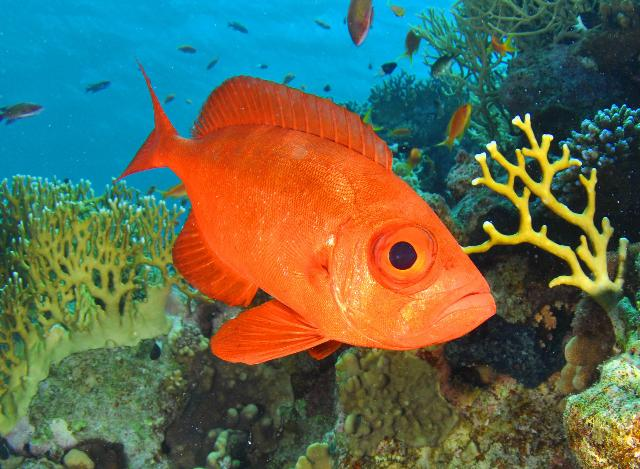Mulut: (430, 273, 504, 343)
Sirip Anal: (176, 208, 258, 307)
Sirip Dada: (266, 217, 336, 287)
Sirip Ekor: (116, 53, 174, 191)
Sirip Perut: (208, 298, 336, 374)
Sirip Punggung: (193, 71, 397, 173)
